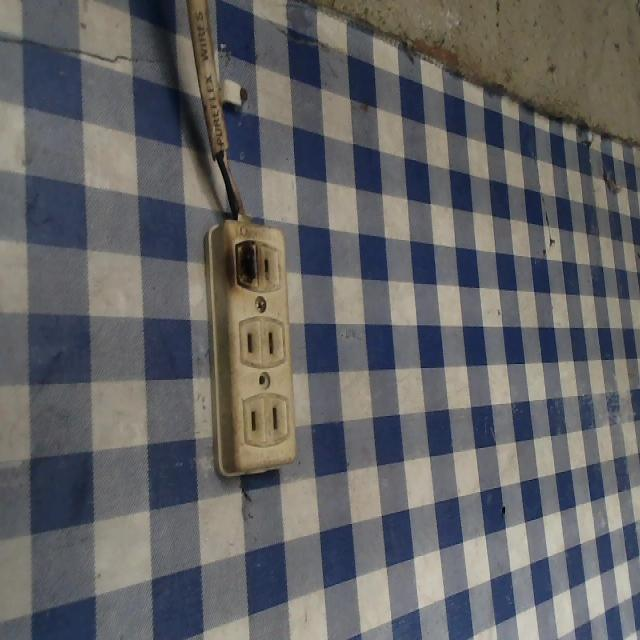-: (219, 218, 261, 294)
